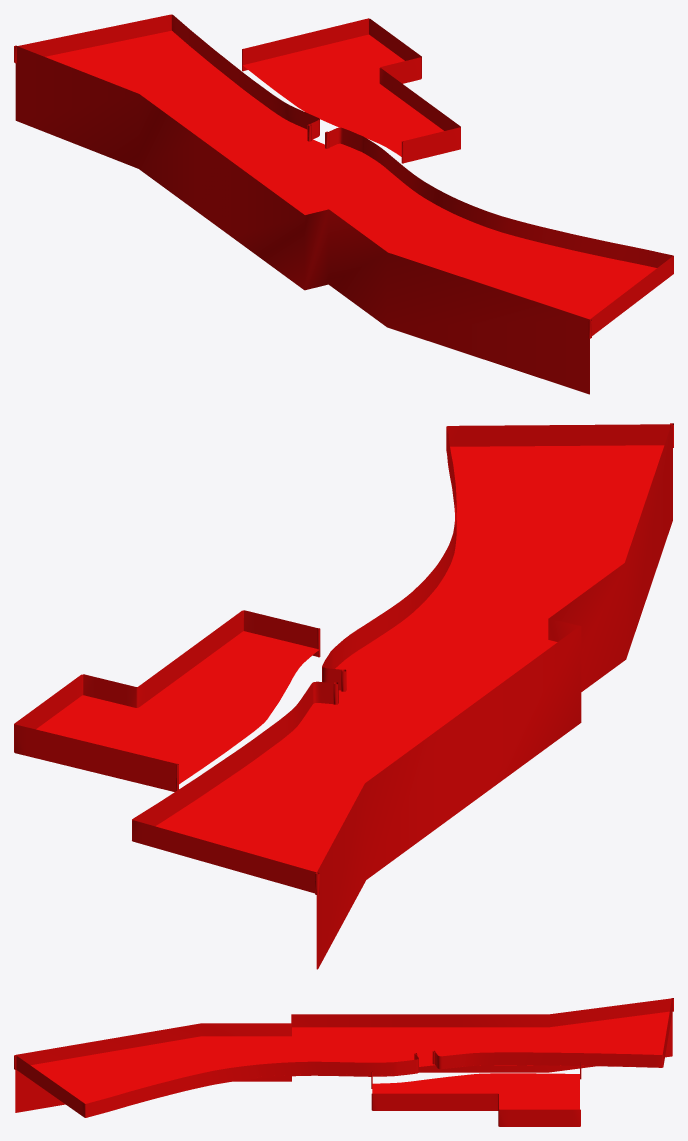
File: hafen_gelaende_colmesh.fbx
3 renders of one model, top to bottom at view 1: azimuth 30°, elevation 25°; view 2: azimuth 150°, elevation 25°; view 3: azimuth 270°, elevation 25°, orthographic. The views are drawn at different scales.
Parts seen in each view (by area): view 1: colmesh; view 2: colmesh; view 3: colmesh.
Part boxes in pixels (bbox=[...]): colmesh: bbox=[14, 14, 673, 394]; colmesh: bbox=[14, 423, 673, 969]; colmesh: bbox=[14, 998, 673, 1126].
Bounding box in the file's own units: 9399 × 2266 × 23446.
